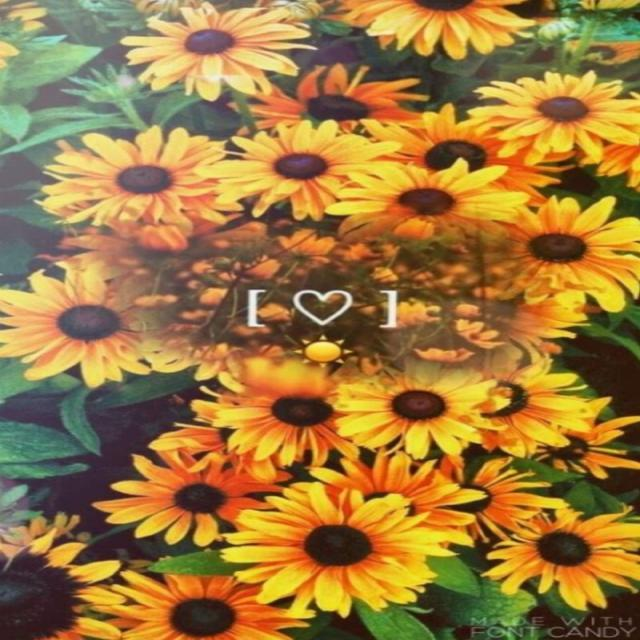sunflower: (218, 481, 468, 619), (360, 102, 571, 204), (198, 118, 402, 222), (0, 263, 168, 388), (36, 124, 232, 230), (90, 550, 312, 640), (119, 2, 318, 102), (190, 353, 362, 468), (90, 449, 286, 547), (482, 194, 640, 312), (324, 156, 529, 242), (479, 504, 639, 611), (466, 69, 640, 164), (331, 359, 496, 458), (50, 221, 272, 292), (306, 449, 484, 537), (222, 62, 430, 136), (463, 352, 598, 456), (0, 527, 125, 639), (150, 399, 302, 484), (428, 454, 567, 542), (337, 0, 536, 60), (4, 511, 152, 586), (530, 397, 638, 479), (480, 288, 592, 358), (594, 90, 640, 191), (0, 0, 48, 70), (565, 40, 640, 64), (499, 0, 562, 24), (128, 0, 212, 16)
